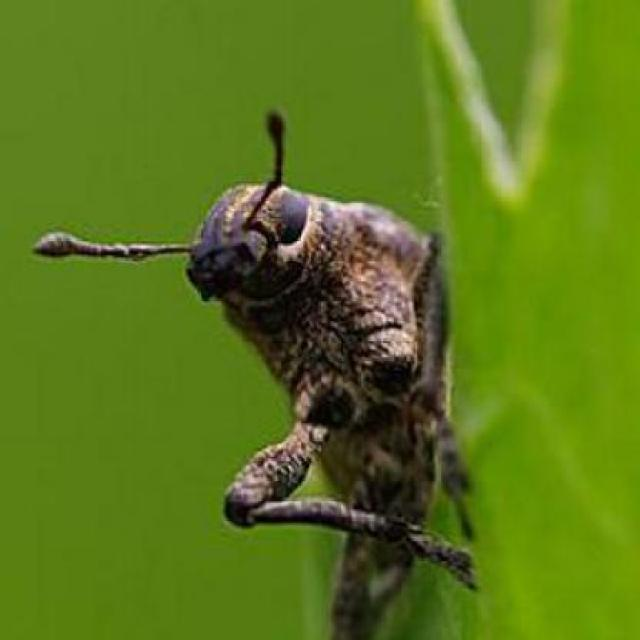rice-bug: (184, 152, 473, 594)
